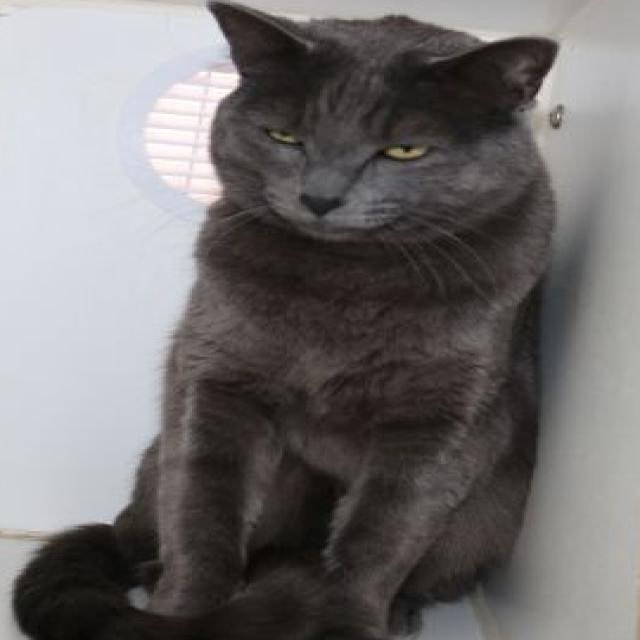Russian Blue: (4, 0, 566, 640)
